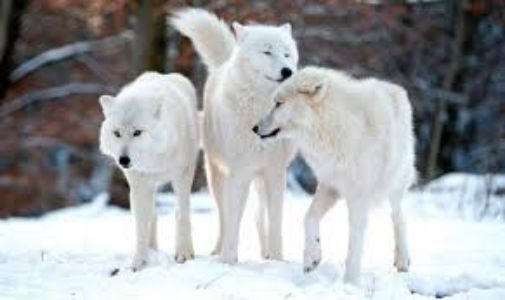wolf: (253, 81, 437, 269), (189, 5, 301, 261), (99, 72, 194, 269)
